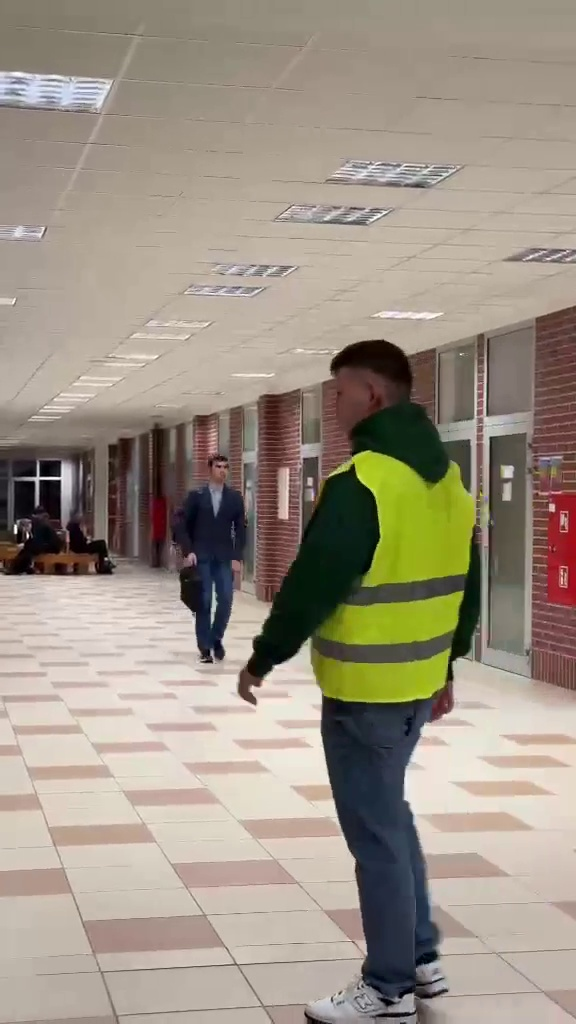no vest: (173, 448, 254, 662)
vest: (263, 344, 496, 1024)
